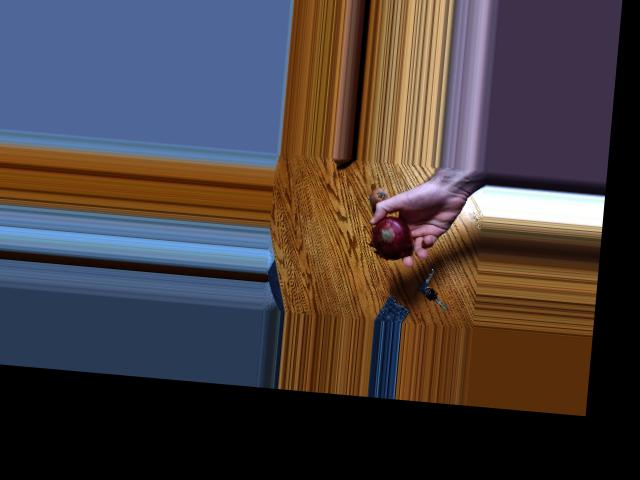onion: (367, 179, 397, 208)
